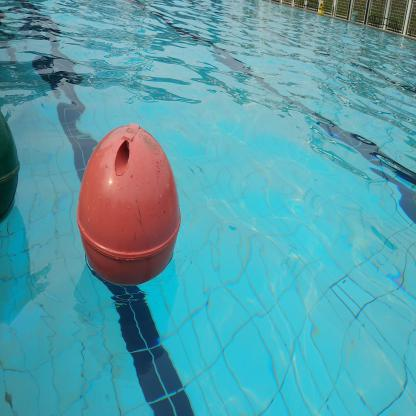red_buoy: (75, 119, 186, 296)
